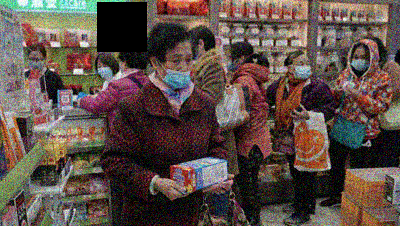mask_weared_incorrect: (162, 51, 194, 89)
with_mask: (293, 60, 313, 81), (352, 53, 373, 71), (98, 62, 114, 80), (28, 54, 44, 71), (229, 53, 241, 72)
